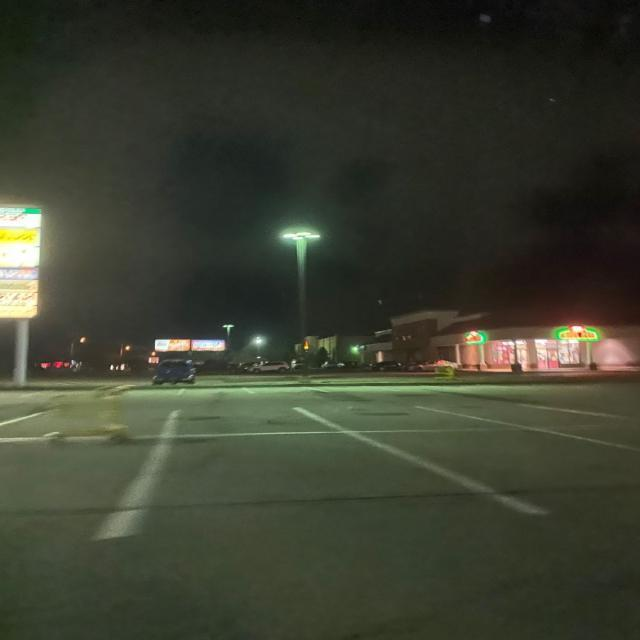on: (0, 188, 78, 346), (252, 198, 340, 250)
